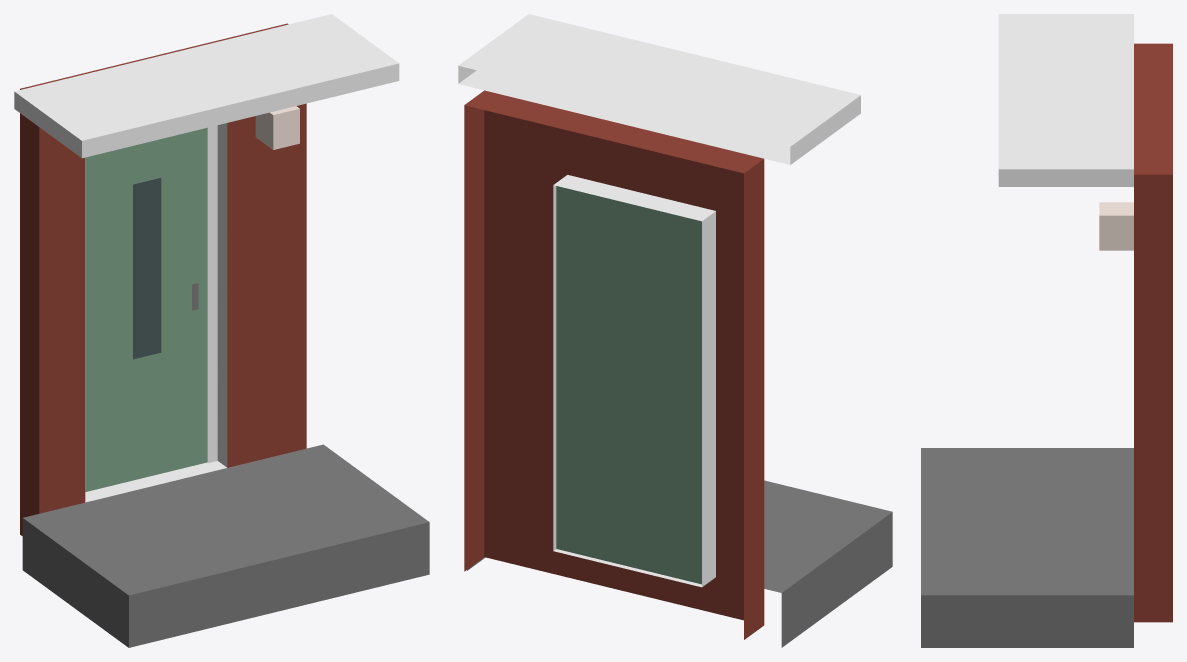
The model's file is entrance.fbx.
3 renders of one model, left to right at view 1: azimuth 30°, elevation 25°; view 2: azimuth 150°, elevation 25°; view 3: azimuth 270°, elevation 25°, orthographic. The views are drawn at different scales.
Visible parts, largest first — view 1: a2015/600/entrance; view 2: a2015/600/entrance; view 3: a2015/600/entrance.
Part boxes in pixels (x1,y1,x2,y2): a2015/600/entrance: [14, 14, 429, 647]; a2015/600/entrance: [458, 14, 892, 647]; a2015/600/entrance: [921, 14, 1172, 647].
Size of the model in its own units: 1.9 by 2.75 by 1.3.
